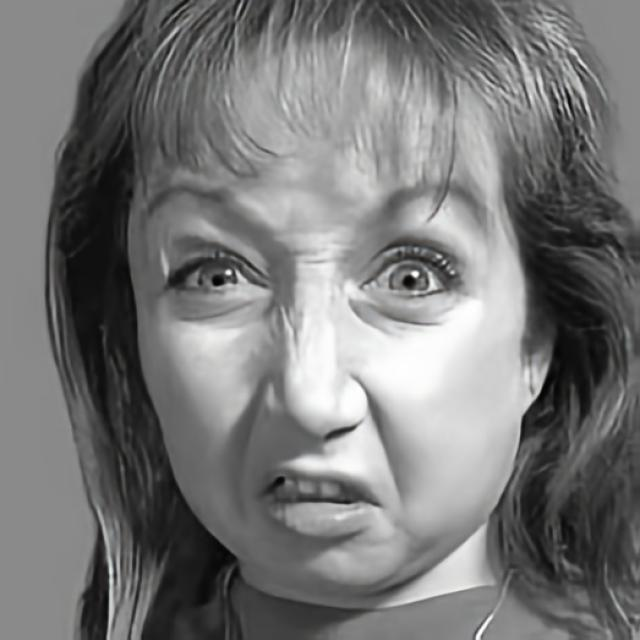disgust: (124, 18, 536, 596)
